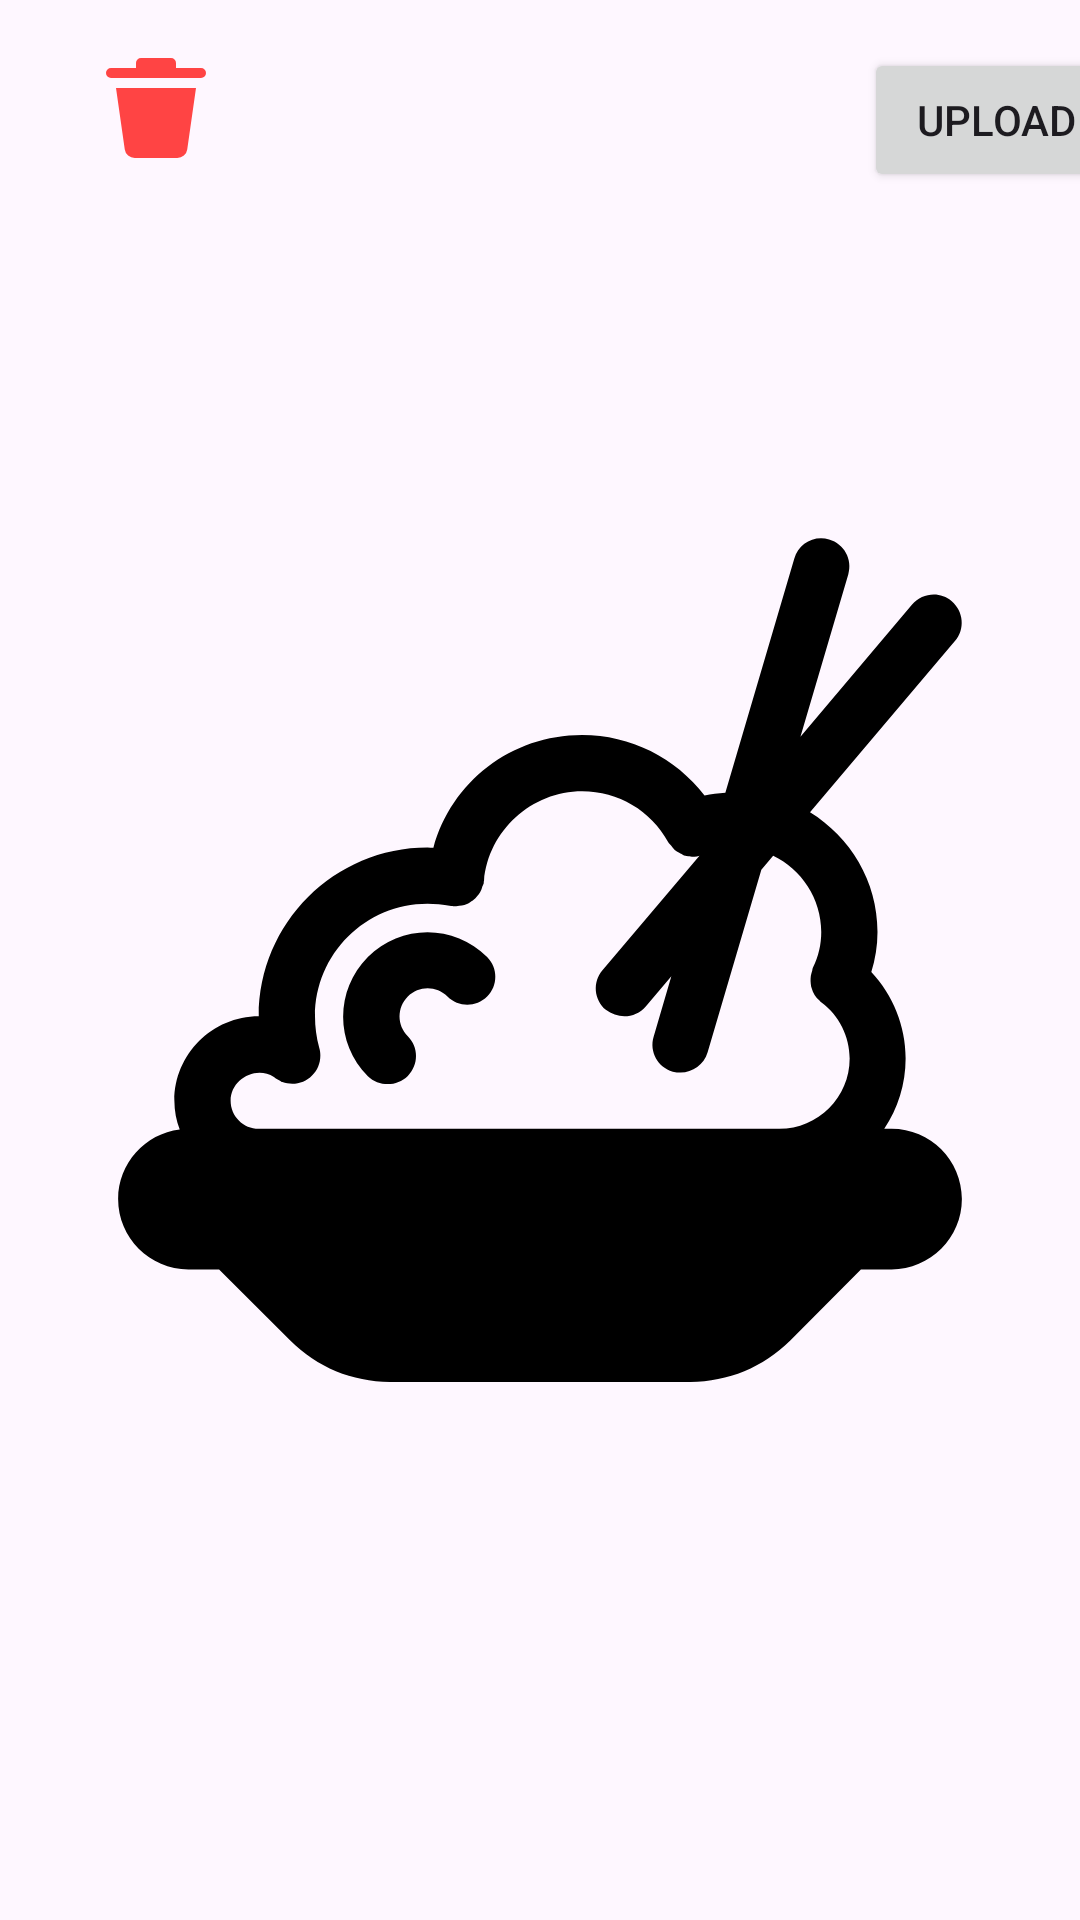

Where icons sit on this 1080 × 1920 app screen, as [left=x1, top=y1, right=x2, bottom=y2]:
delete: [left=106, top=58, right=206, bottom=158]
